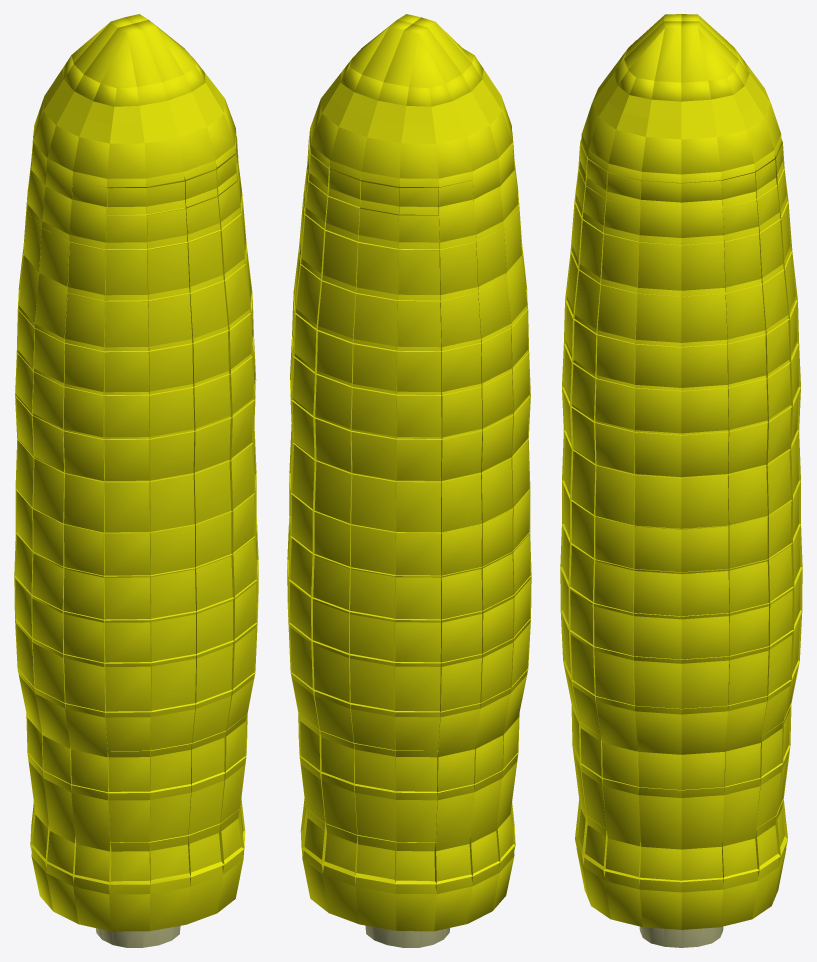
The model's file is corn_model1.fbx.
3 views of the same model, side by side, from view 1: azimuth 30°, elevation 25°; view 2: azimuth 150°, elevation 25°; view 3: azimuth 270°, elevation 25° (orthographic).
Parts seen in each view (by area): view 1: pCube1; view 2: pCube1; view 3: pCube1.
Boxes of the visible parts, box(x1,y1,x2,y2) form: pCube1: box(14, 14, 258, 947); pCube1: box(287, 14, 531, 947); pCube1: box(560, 14, 802, 947).
Bounding box in the file's own units: 0.5825 × 2.41 × 0.582.
